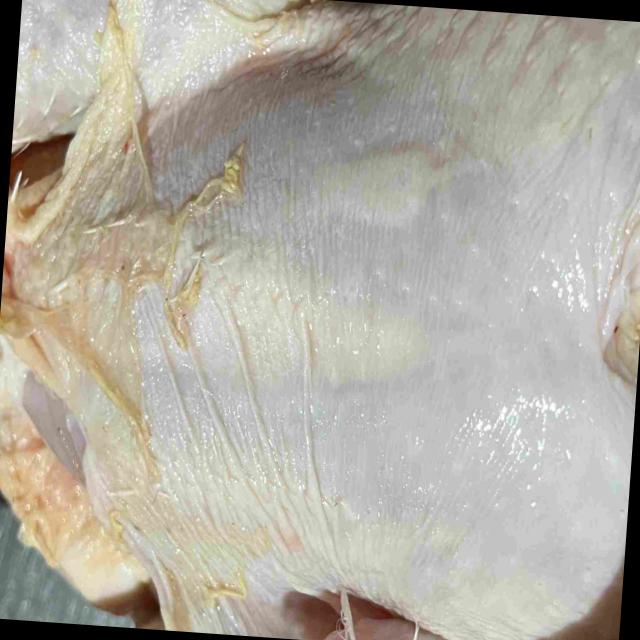breast: (21, 5, 640, 640)
leg: (9, 0, 331, 179)
